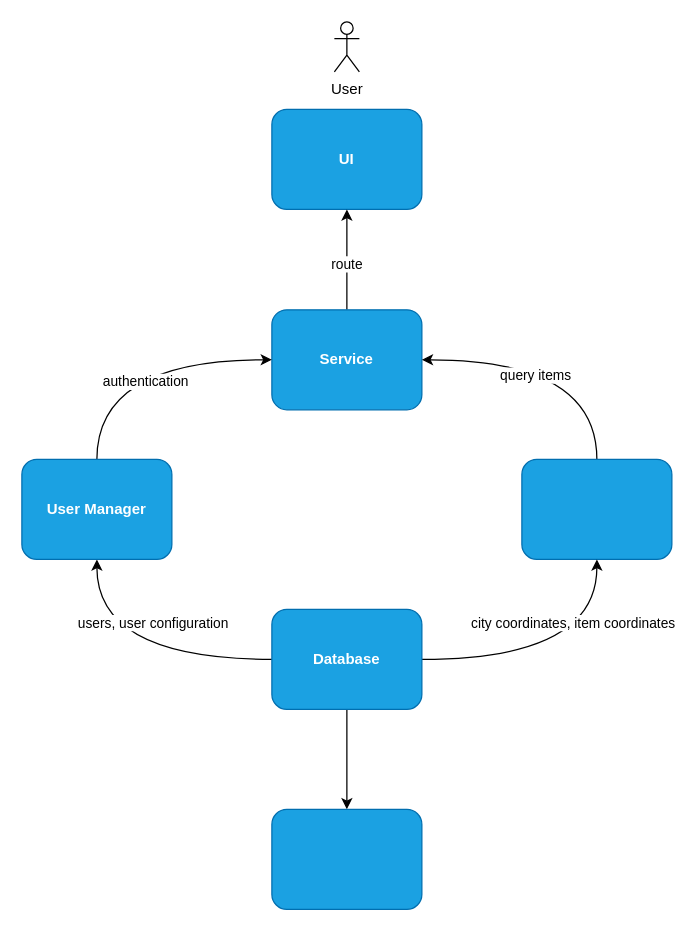
This 696x931 diagram has some shape labels left out. Each missing label, with the centre of its shape:
Coordinates: point (596, 508)
Geo-information Manager: point (346, 858)
